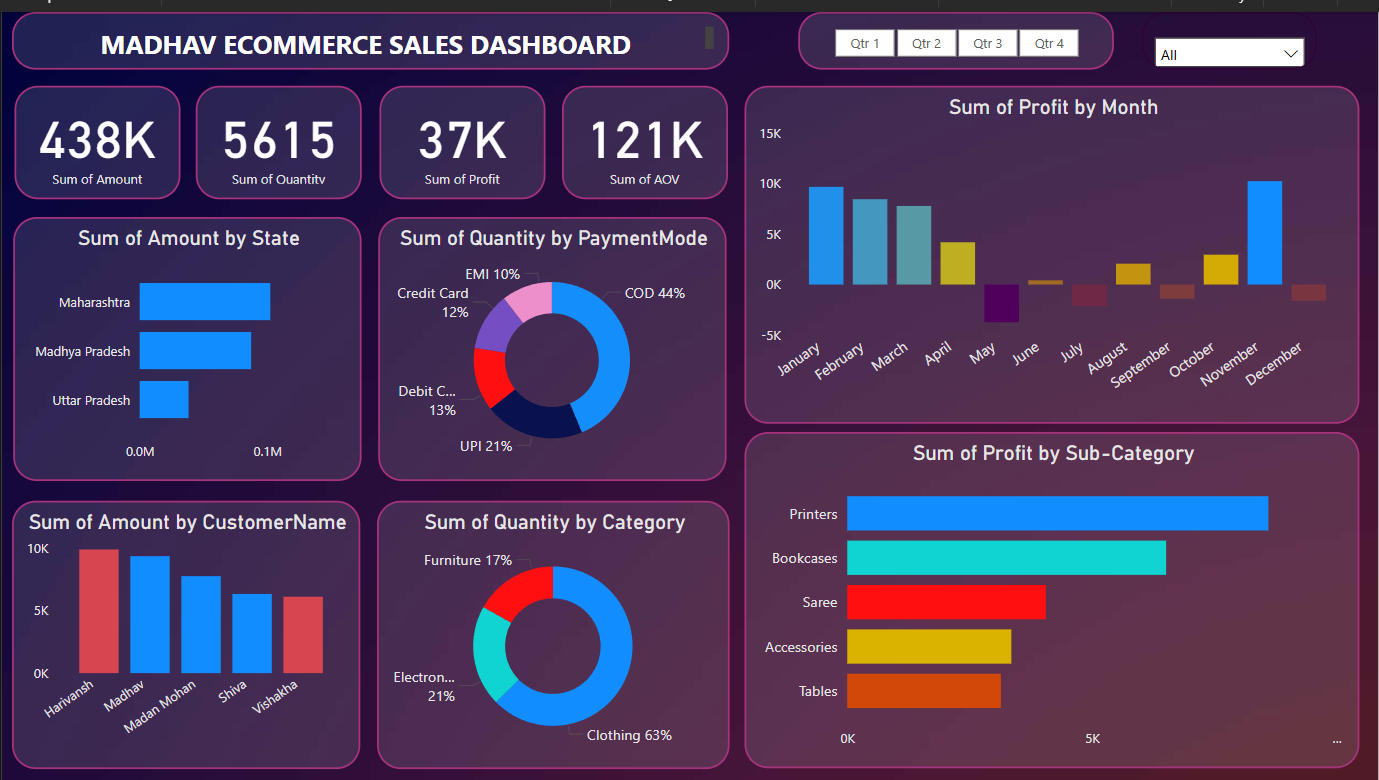

What the dashboard file says about the page in this screenshot:
{"tool":"powerbi","page":{"name":"Page 1","canvas":[1280,720],"ordinal":0},"visuals":[{"type":"textbox","box":[9.6,0,666.9,53.5],"z":0},{"type":"columnChart","fields":{"Y":["Details.Profit"],"Category":["Orders.Order Date.Variation.Date Hierarchy.Month"]},"box":[690.2,68.6,572.2,314.2],"z":1000},{"type":"barChart","fields":{"Category":["Details.Sub-Category"],"Y":["Details.Profit"]},"box":[690.2,391.1,572.2,312.9],"z":2000},{"type":"donutChart","fields":{"Category":["Details.Category"],"Y":["Details.Quantity"]},"box":[348.5,454.2,328,249.7],"z":3000},{"type":"donutChart","fields":{"Y":["Details.Quantity"],"Category":["Details.PaymentMode"]},"box":[349.9,190.7,323.8,245.6],"z":4000},{"type":"card","fields":{"Values":["Details.Amount"]},"box":[11.6,68.6,154.7,105.8],"z":5000},{"type":"card","fields":{"Values":["Details.Quantity"]},"box":[180.2,68.6,154.7,105.8],"z":6000},{"type":"card","fields":{"Values":["Details.Profit"]},"box":[351.2,68.6,154.7,105.8],"z":7000},{"type":"card","fields":{"Values":["Details.AOV"]},"box":[520.9,68.6,154.7,105.8],"z":8000},{"type":"barChart","fields":{"Category":["Orders.State"],"Y":["Details.Amount"]},"box":[11,190.7,323.8,245.6],"z":9000},{"type":"columnChart","fields":{"Category":["Orders.CustomerName"],"Y":["Details.Amount"]},"box":[9.6,454.2,323.8,249.7],"z":10000},{"type":"slicer","fields":{"Values":["Orders.Order Date.Variation.Date Hierarchy.Quarter"]},"box":[741,0,293.7,53.5],"z":11000},{"type":"slicer","title":"states","fields":{"Values":["Orders.State"]},"box":[1060.5,0,162.8,53.5],"z":12000}]}

Visuals, with their boxes in screenshot pixels (x1, y1, x2, y2), scaled from the page's 1280x720 canvas onto the 1379x780 screenshot:
textbox: bbox=(10, 0, 729, 58)
columnChart - Details.Profit x Orders.Order Date.Variation.Date Hierarchy.Month: bbox=(744, 74, 1360, 415)
barChart - Details.Sub-Category x Details.Profit: bbox=(744, 424, 1360, 763)
donutChart - Details.Category x Details.Quantity: bbox=(375, 492, 729, 763)
donutChart - Details.Quantity x Details.PaymentMode: bbox=(377, 207, 726, 473)
card - Details.Amount: bbox=(12, 74, 179, 189)
card - Details.Quantity: bbox=(194, 74, 361, 189)
card - Details.Profit: bbox=(378, 74, 545, 189)
card - Details.AOV: bbox=(561, 74, 728, 189)
barChart - Orders.State x Details.Amount: bbox=(12, 207, 361, 473)
columnChart - Orders.CustomerName x Details.Amount: bbox=(10, 492, 359, 763)
slicer - Orders.Order Date.Variation.Date Hierarchy.Quarter: bbox=(798, 0, 1115, 58)
"states" slicer: bbox=(1143, 0, 1318, 58)
